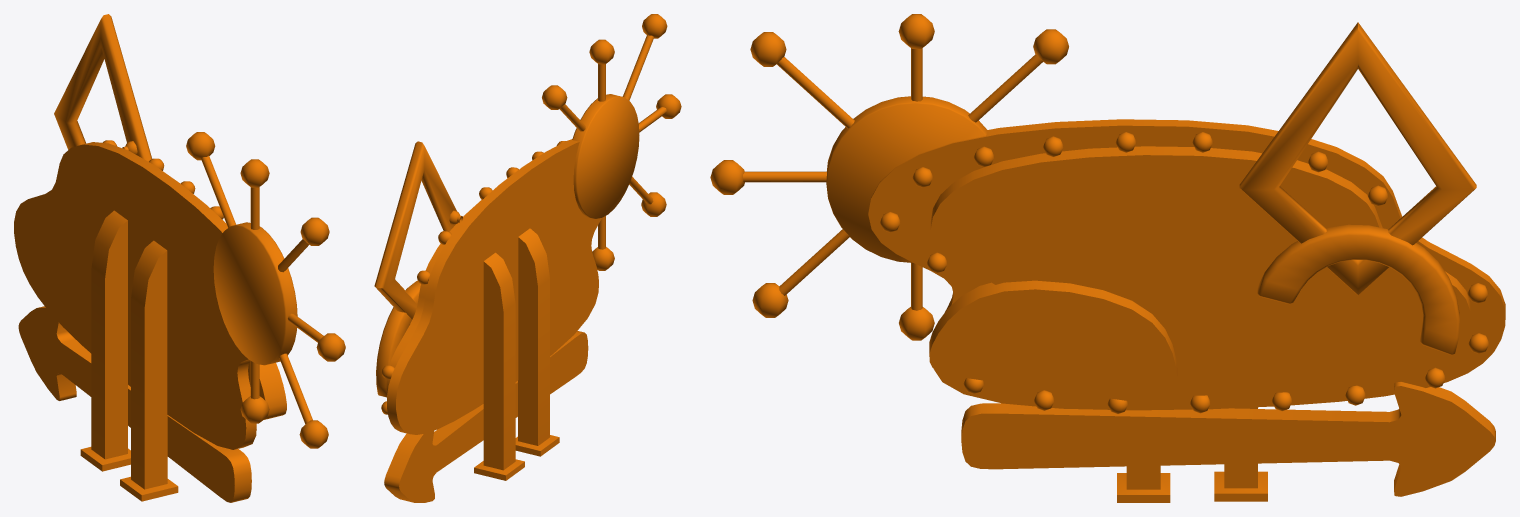
The model's file is PancarteDiner.fbx.
3 views of the same model, side by side, from view 1: azimuth 30°, elevation 25°; view 2: azimuth 150°, elevation 25°; view 3: azimuth 270°, elevation 25° (orthographic). The views are drawn at different scales.
Visible parts, largest first — view 1: FondPancarte.Low, Soleil.Hp.001, Suport.Hp.001, Fleche.Low, MiniPancarte.Low, Lampiotte.Low; view 2: FondPancarte.Low, Soleil.Hp.001, Suport.Hp.001, Fleche.Low, Pancarte.Hp.001, Lampiotte.Low; view 3: Pancarte.Hp.001, Soleil.Hp.001, Fleche.Low, FondPancarte.Low, MiniPancarte.Low, Lampiotte.Low, Suport.Hp.001.
Part boxes in pixels (bbox=[...]): FondPancarte.Low: bbox=[14, 142, 256, 449]; Soleil.Hp.001: bbox=[54, 14, 345, 448]; Suport.Hp.001: bbox=[80, 210, 178, 501]; Fleche.Low: bbox=[18, 306, 251, 502]; MiniPancarte.Low: bbox=[248, 362, 286, 419]; Lampiotte.Low: bbox=[102, 140, 223, 219]; FondPancarte.Low: bbox=[387, 139, 601, 434]; Soleil.Hp.001: bbox=[374, 14, 681, 397]; Suport.Hp.001: bbox=[474, 228, 559, 480]; Fleche.Low: bbox=[384, 331, 588, 502]; Pancarte.Hp.001: bbox=[386, 200, 481, 392]; Lampiotte.Low: bbox=[381, 141, 565, 414]; Pancarte.Hp.001: bbox=[930, 146, 1470, 395]; Soleil.Hp.001: bbox=[710, 14, 1476, 355]; Fleche.Low: bbox=[961, 382, 1495, 496]; FondPancarte.Low: bbox=[868, 119, 1505, 410]; MiniPancarte.Low: bbox=[929, 280, 1177, 403]; Lampiotte.Low: bbox=[880, 132, 1489, 413]; Suport.Hp.001: bbox=[1117, 407, 1267, 502].
Bounding box in the file's own units: 115 × 611 × 890.
